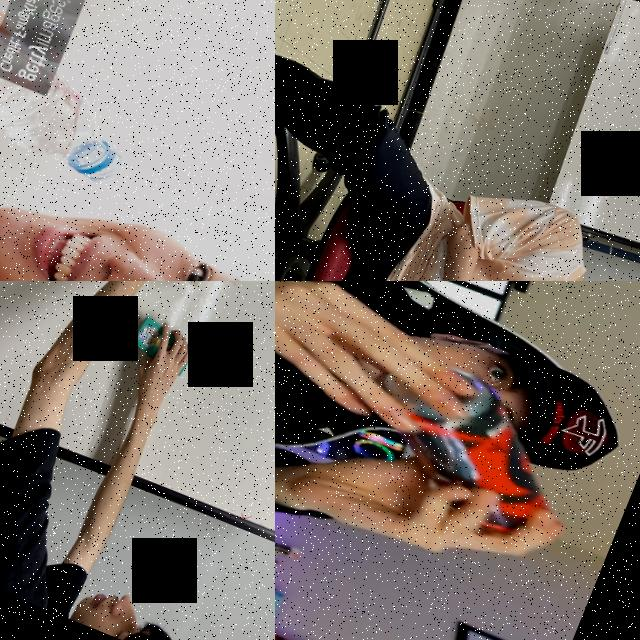bottle: (0, 0, 178, 195)
can: (340, 342, 594, 557)
